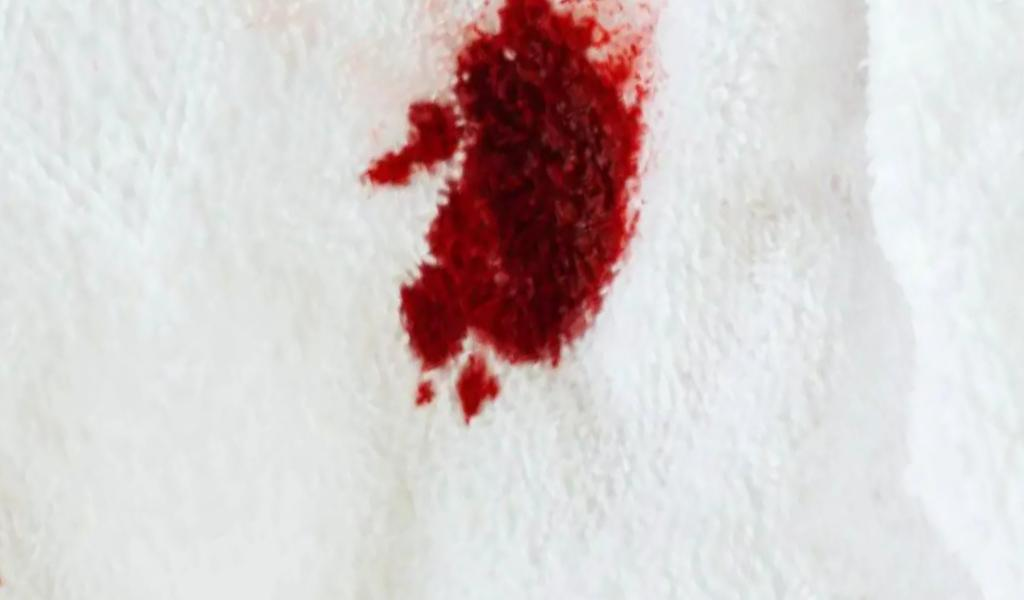stain: (350, 1, 672, 432)
